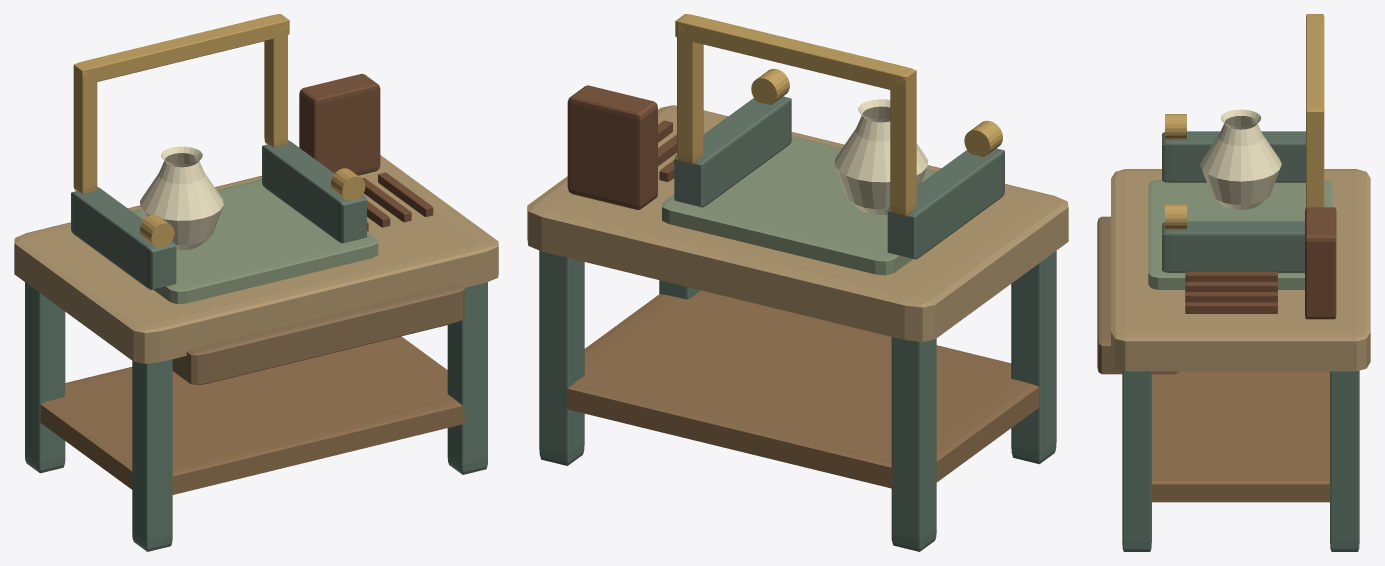
File: carve.glb
3 renders of one model, left to right at view 1: azimuth 30°, elevation 25°; view 2: azimuth 150°, elevation 25°; view 3: azimuth 270°, elevation 25°, orthographic. The views are drawn at different scales.
Parts seen in each view (by area): view 1: carve-table-shelf-005, carve-table-top-000, carve-carve-mat-006, carve-carve-drawer-020, carve-table-leg-002, carve-carve-toolbox-016, carve-table-leg-004, carve-table-leg-001, carve-carve-holder-012, carve-carve-holder-014, carve-carve-vase-007, carve-carve-top-rail-019 (+6 smaller); view 2: carve-table-shelf-005, carve-table-top-000, carve-carve-mat-006, carve-carve-toolbox-016, carve-table-leg-001, carve-table-leg-003, carve-table-leg-002, carve-carve-holder-012, carve-carve-holder-014, carve-carve-top-rail-019, carve-carve-vase-007, carve-carve-frame-017 (+3 smaller); view 3: carve-table-top-000, carve-table-shelf-005, carve-carve-holder-014, carve-carve-mat-006, carve-carve-vase-007, carve-table-leg-003, carve-table-leg-004, carve-carve-holder-012, carve-carve-toolbox-016, carve-carve-drawer-020, carve-carve-top-rail-019, carve-carve-frame-018 (+6 smaller).
Boxes of the visible parts, box(x1,y1,x2,y2) form: carve-table-shelf-005: box(40, 336, 468, 495); carve-table-top-000: box(14, 155, 498, 363); carve-carve-mat-006: box(131, 179, 378, 304); carve-carve-drawer-020: box(172, 284, 465, 384); carve-table-leg-002: box(132, 359, 172, 551); carve-carve-toolbox-016: box(299, 73, 380, 175); carve-table-leg-004: box(447, 282, 487, 474); carve-table-leg-001: box(25, 282, 65, 473); carve-carve-holder-012: box(71, 187, 176, 289); carve-carve-holder-014: box(262, 140, 366, 243); carve-carve-vase-007: box(140, 146, 223, 250); carve-carve-top-rail-019: box(73, 14, 289, 83); carve-table-shelf-005: box(566, 290, 1039, 489); carve-table-top-000: box(527, 105, 1068, 341); carve-carve-mat-006: box(662, 136, 937, 275); carve-carve-toolbox-016: box(567, 85, 657, 209); carve-table-leg-001: box(891, 337, 936, 551); carve-table-leg-003: box(539, 250, 584, 465); carve-table-leg-002: box(1011, 251, 1056, 464); carve-carve-holder-012: box(887, 148, 1004, 259); carve-carve-holder-014: box(674, 96, 791, 207); carve-carve-top-rail-019: box(675, 14, 916, 90); carve-carve-vase-007: box(834, 99, 928, 214); carve-carve-frame-017: box(890, 78, 916, 216); carve-table-top-000: box(1111, 169, 1370, 371); carve-table-shelf-005: box(1151, 371, 1330, 502); carve-carve-holder-014: box(1162, 221, 1304, 272); carve-carve-mat-006: box(1148, 180, 1333, 289); carve-carve-vase-007: box(1200, 109, 1281, 209); carve-table-leg-003: box(1330, 370, 1359, 551); carve-table-leg-004: box(1122, 370, 1151, 551); carve-carve-holder-012: box(1162, 131, 1305, 182); carve-carve-toolbox-016: box(1305, 207, 1336, 319); carve-carve-drawer-020: box(1097, 216, 1179, 374); carve-carve-top-rail-019: box(1306, 14, 1324, 125); carve-carve-frame-018: box(1306, 112, 1324, 207).
Bounding box in the file's own units: 2.2 × 2.34 × 1.47.
